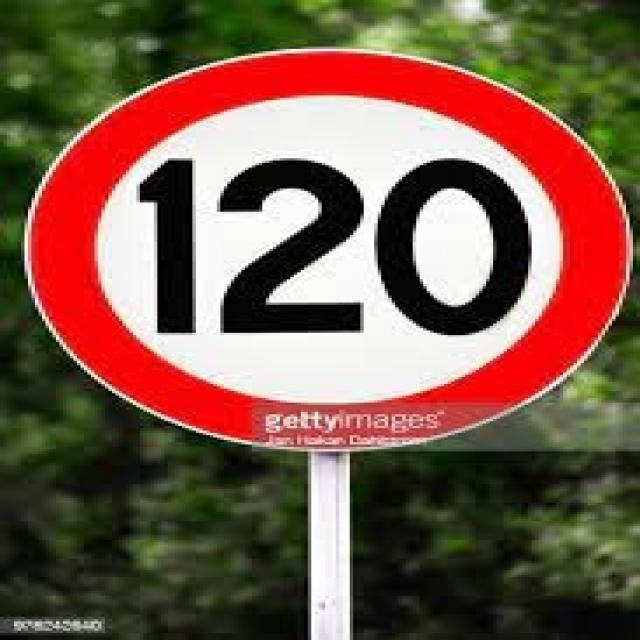speed_limit_120: (23, 43, 640, 451)
